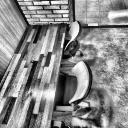chair_fail: (53, 60, 95, 112), (62, 20, 85, 62)
